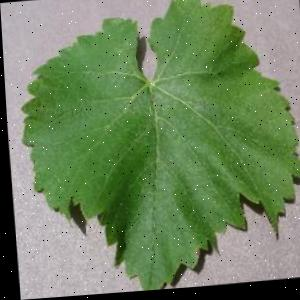Folha: (9, 0, 300, 299)
